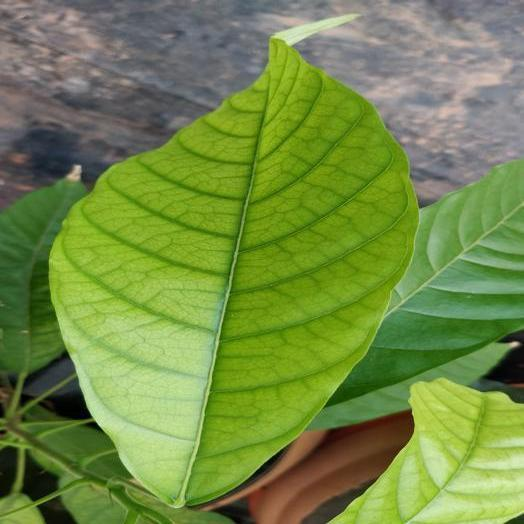Healthy Leaf: (326, 159, 523, 407), (0, 178, 85, 373)
Iron: (51, 20, 417, 506), (329, 378, 523, 523)
